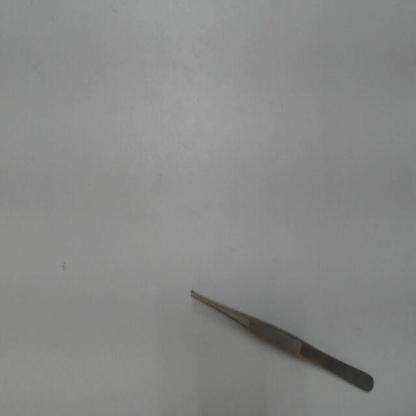Gillies Toothed Dissector: (185, 278, 381, 403)
